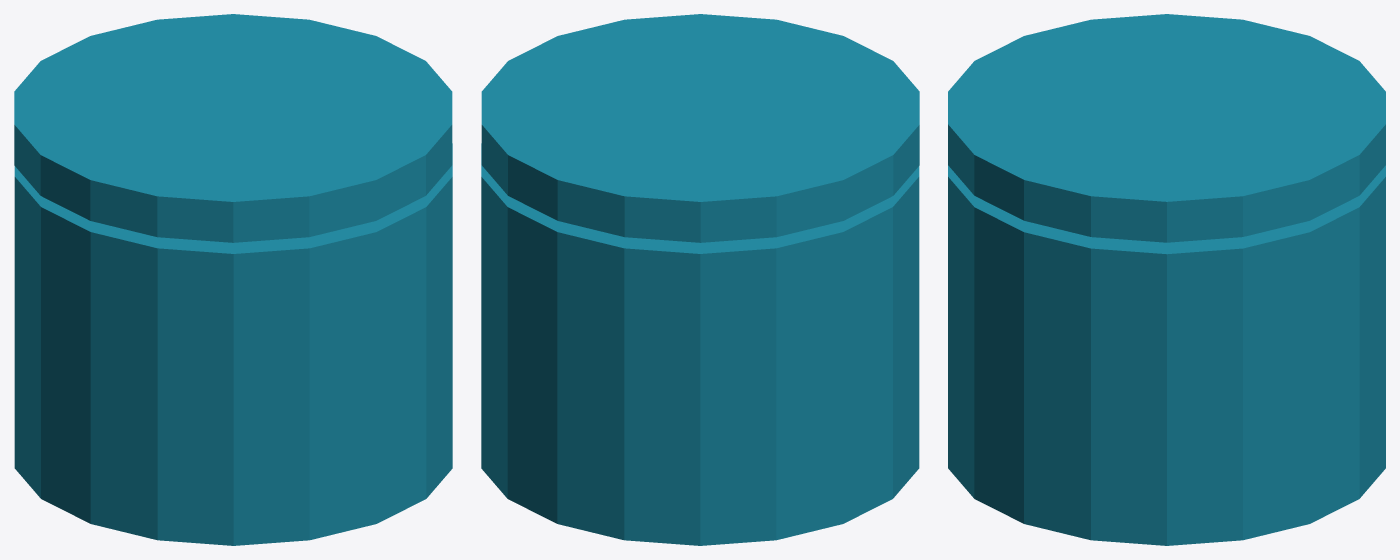
Rendered from twocyl.obj.
The picture shows the model from 3 angles, left to right: view 1: azimuth 30°, elevation 25°; view 2: azimuth 150°, elevation 25°; view 3: azimuth 270°, elevation 25°; orthographic projection.
Visible parts, largest first — view 1: Cylinder003, Cylinder002; view 2: Cylinder003, Cylinder002; view 3: Cylinder003, Cylinder002.
Boxes of the visible parts, x1,y1,x2,y2 form: Cylinder003: (14, 143, 452, 545); Cylinder002: (14, 14, 452, 242); Cylinder003: (481, 143, 919, 545); Cylinder002: (481, 14, 919, 242); Cylinder003: (948, 165, 1385, 545); Cylinder002: (948, 14, 1385, 242).
Size of the model in its own units: 43.86 by 37.38 by 43.14.
